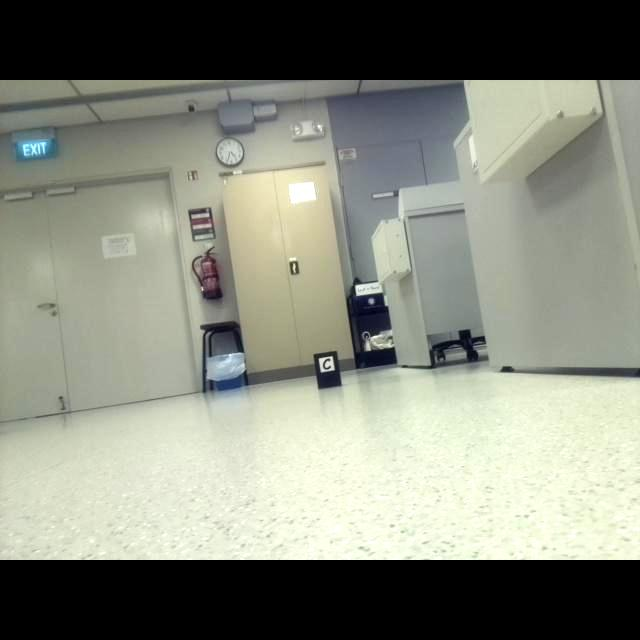C: (323, 358, 333, 370)
